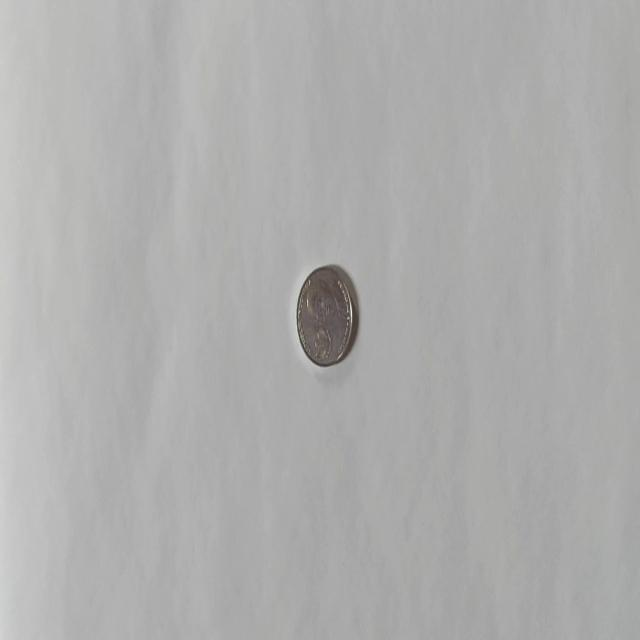lima ratus rupiah: (295, 263, 353, 367)
